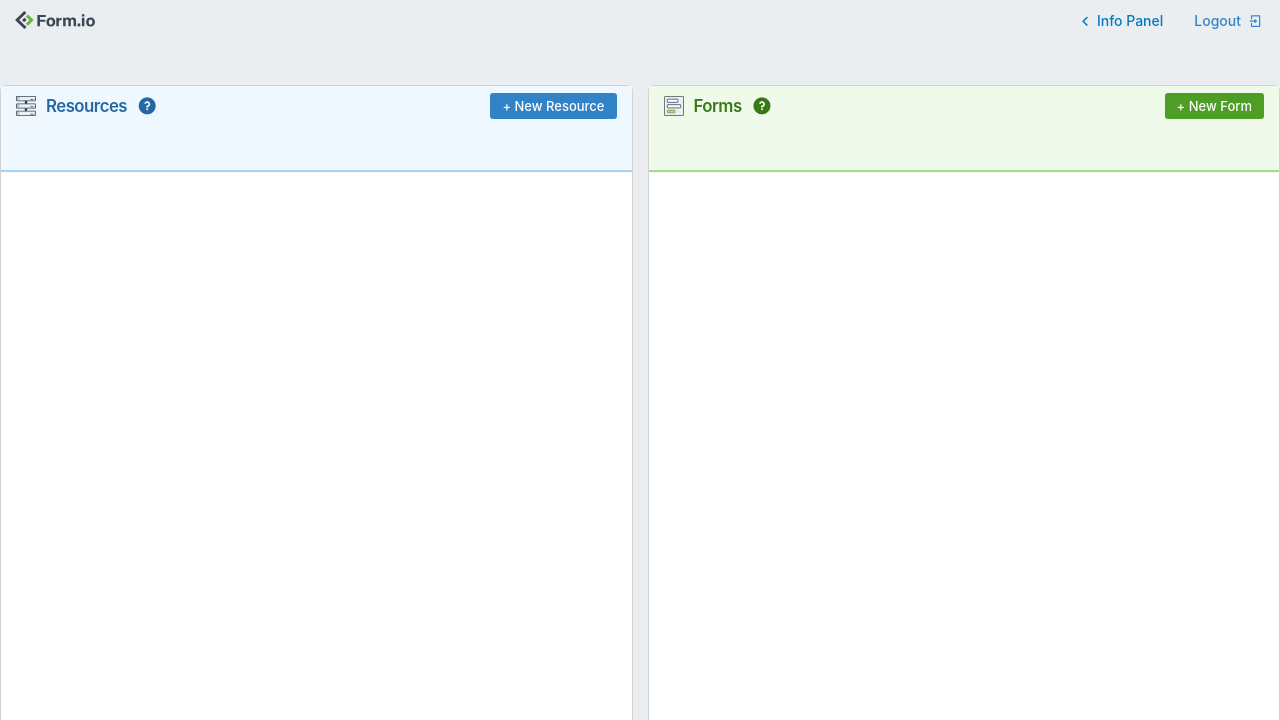
Test case: Resources help icon documentation should exists, have a link to resources documentation, and clicking on resource help icon should open up help documentation
Click the button with class "help" next to "Resources" at (146, 106), box [136,96,157,116]
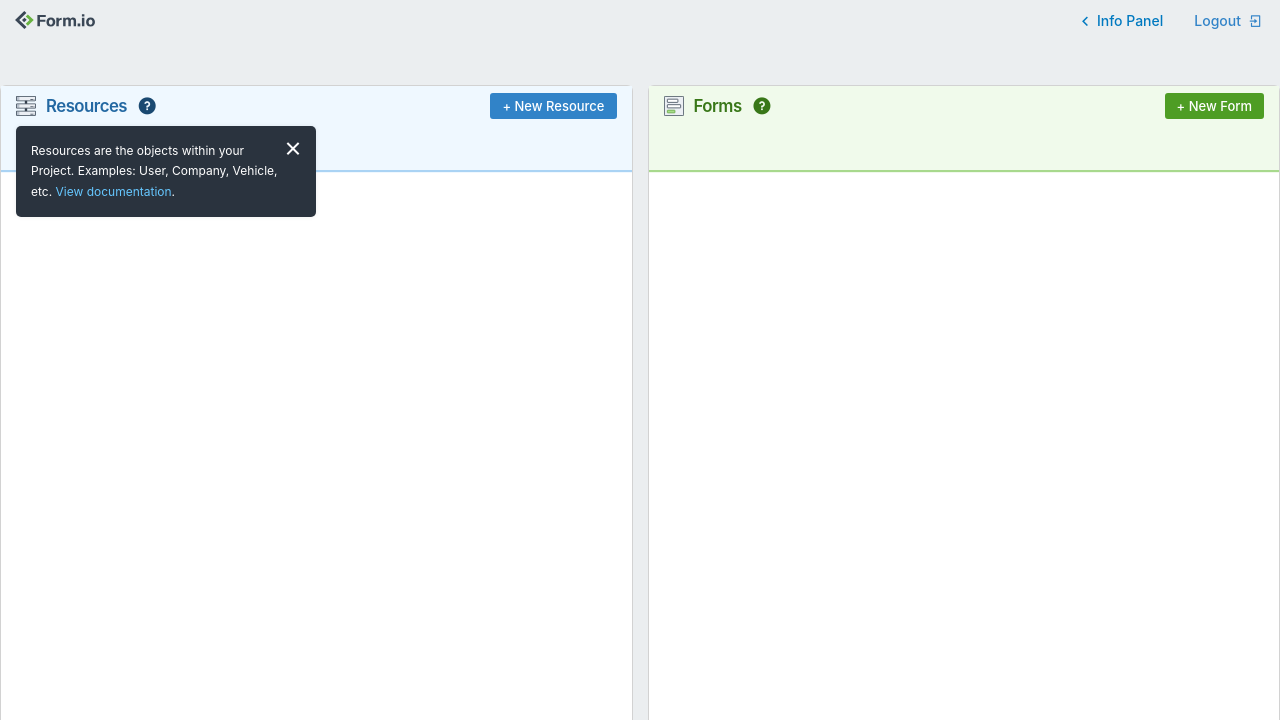
Result: the element with class "help-bubble" is shown at [16,126,316,217]
